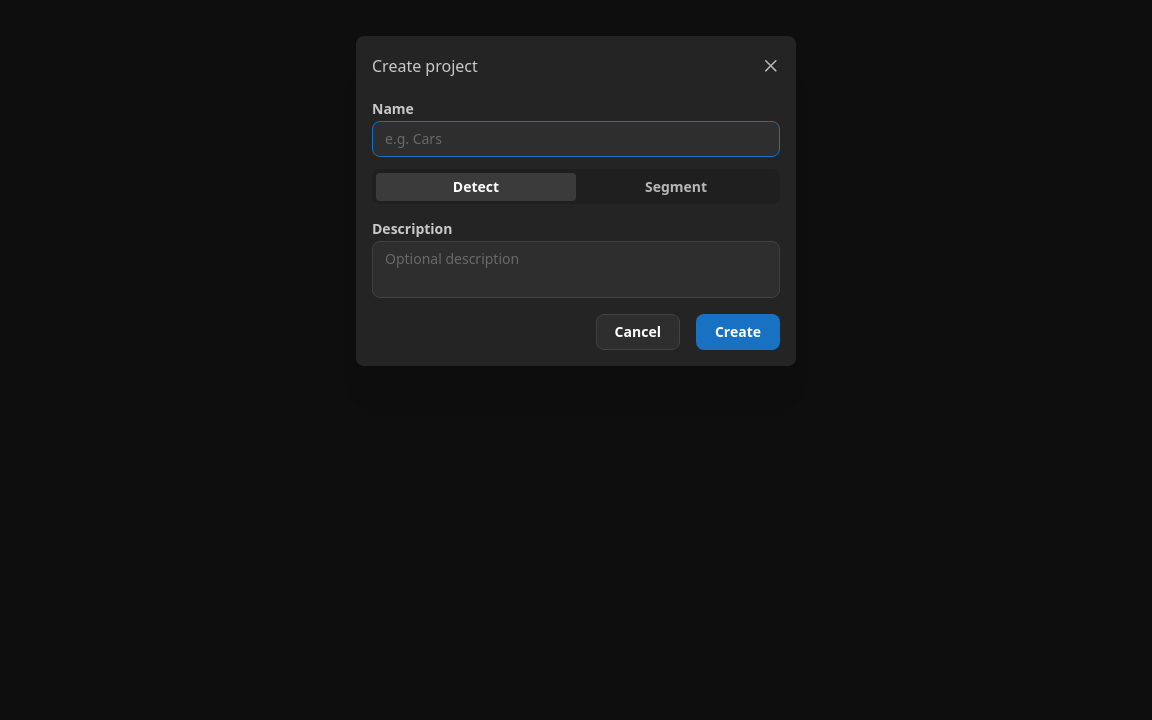
Test case: CreateProjectModal › shows the translated error title and the API's own detail verbatim on a 409
In the field labelled "Name": [576, 139] box [372,121,780,157], type "Cars"
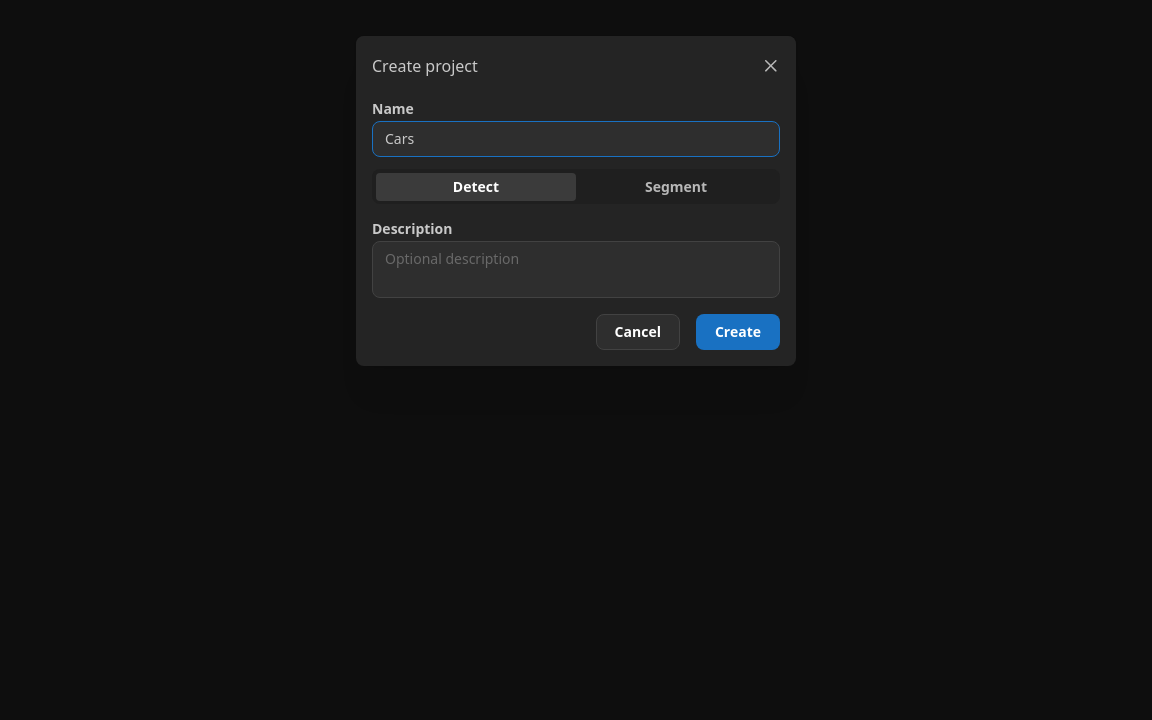
Click the button "Create": [738, 332] box [696,314,780,350]
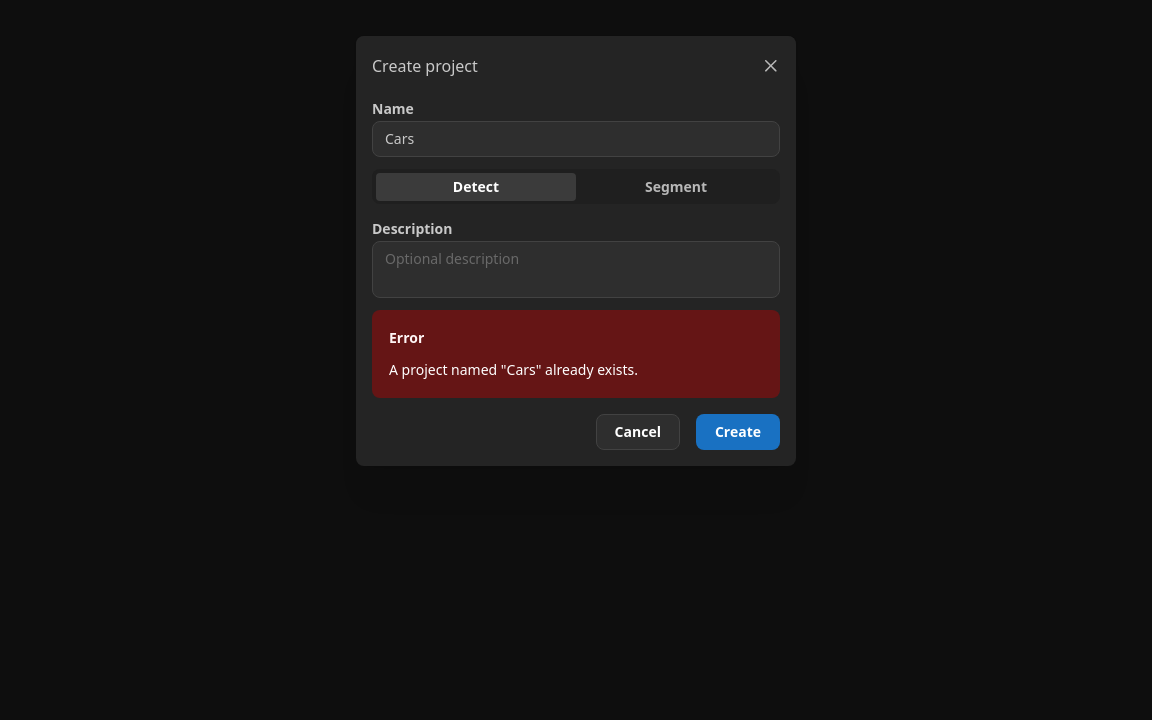
expect the text "A project named \"Cars\" already exists." is shown: met, box [389,360,638,379]
expect the text "Error" is shown: met, box [389,327,424,349]
